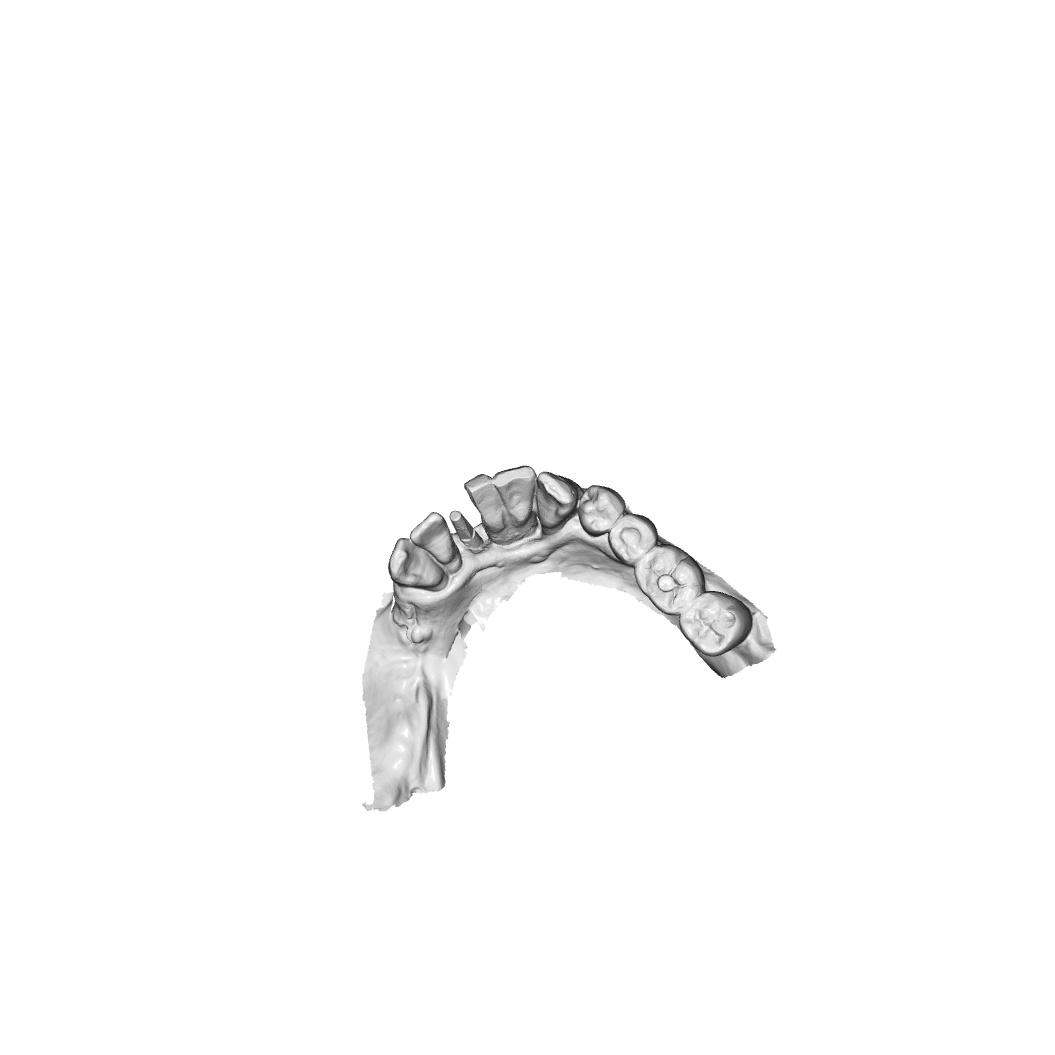abutment: (447, 507, 486, 557)
canine: (386, 536, 444, 590), (532, 470, 582, 532)
incisor: (462, 473, 509, 533), (491, 464, 537, 524), (408, 511, 458, 566)
molar: (633, 541, 707, 617), (677, 589, 755, 659)
premolar: (607, 511, 661, 568), (576, 482, 626, 539)
